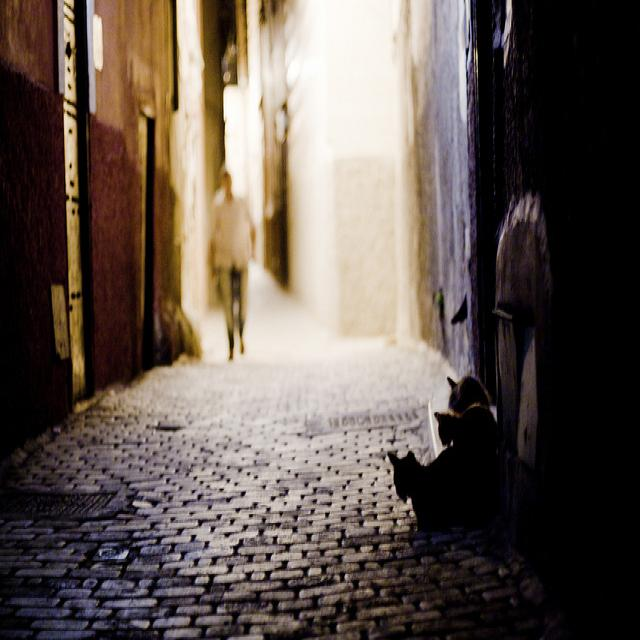Cat: (377, 432, 556, 552), (416, 404, 527, 461), (436, 352, 517, 413)
People: (191, 152, 278, 371)
